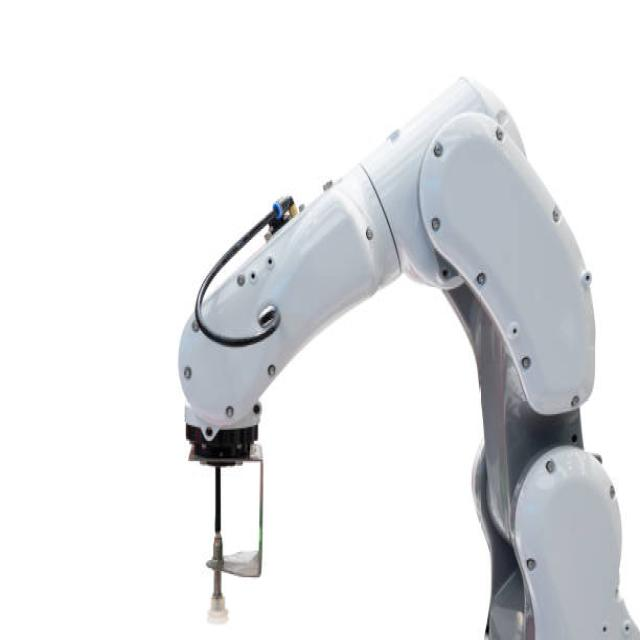Robotic-arm: (168, 58, 640, 640)
